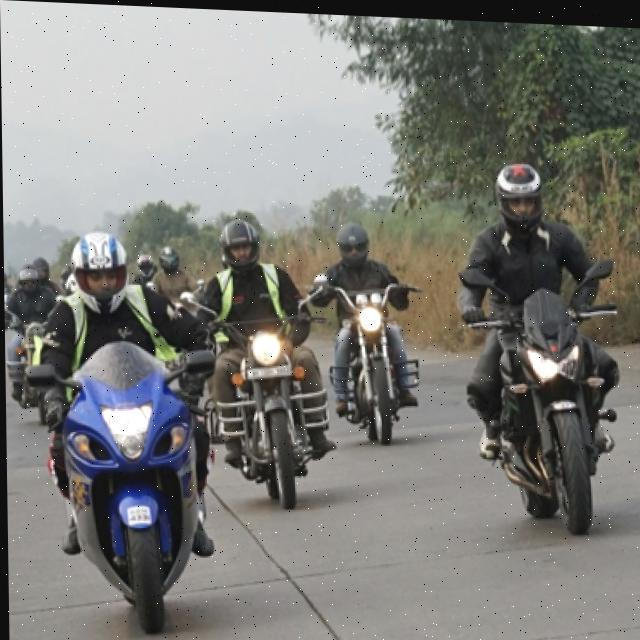Helmet: (64, 231, 136, 314), (490, 158, 548, 228), (215, 214, 262, 266)
